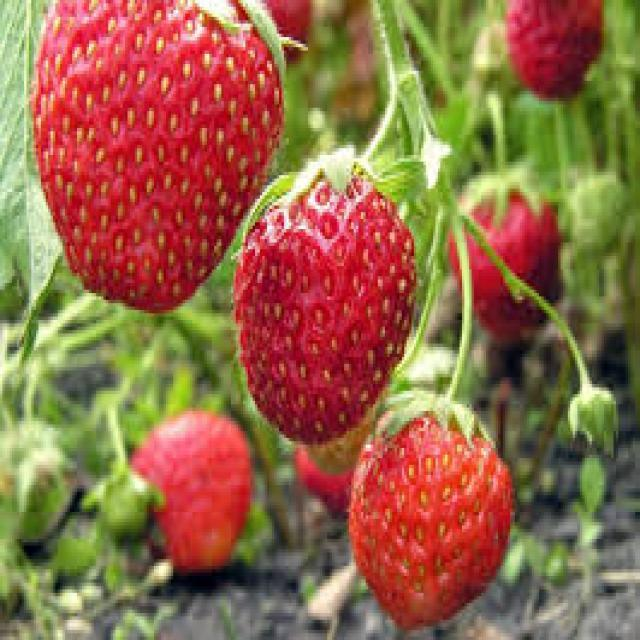Strawberry: (26, 0, 291, 313), (231, 155, 416, 445), (346, 387, 515, 630), (128, 404, 252, 573), (445, 175, 561, 344), (503, 0, 604, 101)
